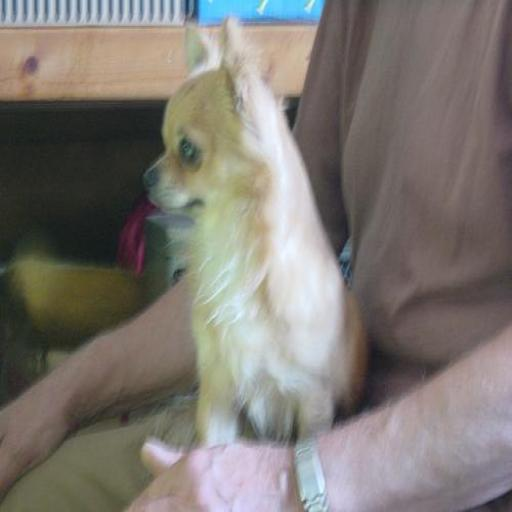dog_face: (143, 26, 253, 220)
